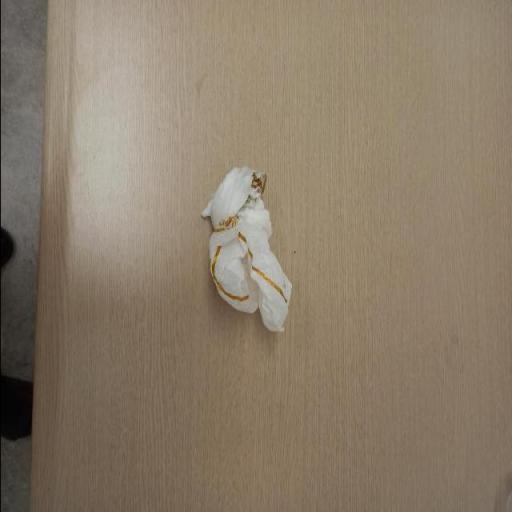plastic-bag: (200, 158, 297, 334)
